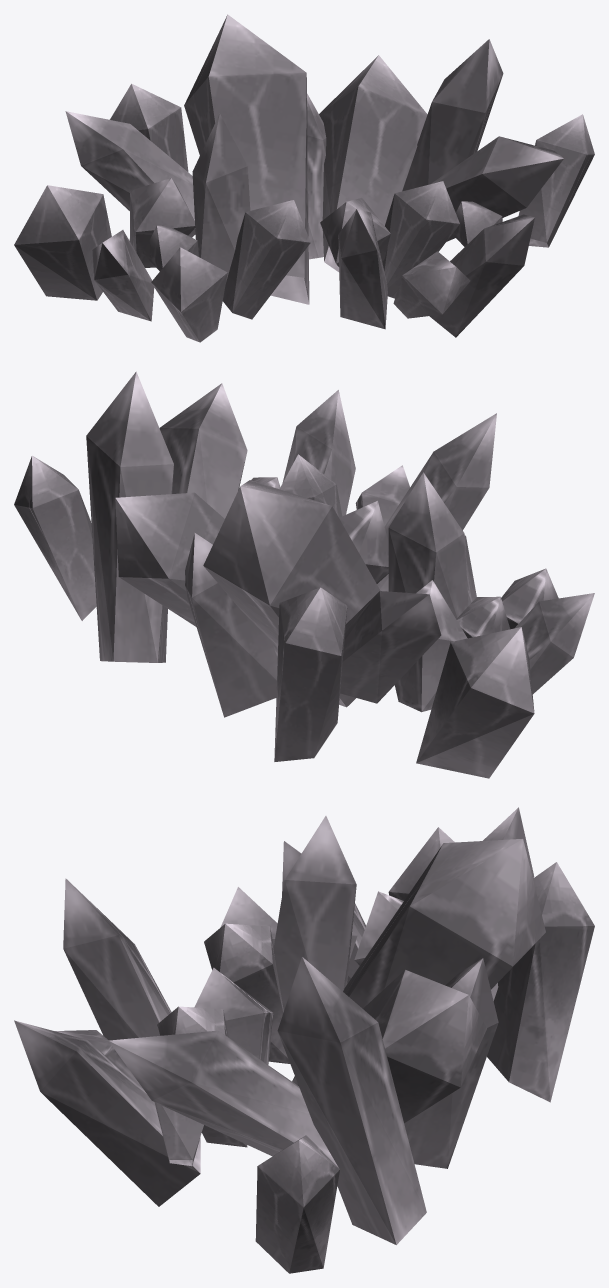
The model's file is crystals.glb.
3 renders of one model, top to bottom at view 1: azimuth 30°, elevation 25°; view 2: azimuth 150°, elevation 25°; view 3: azimuth 270°, elevation 25°, orthographic. The views are drawn at different scales.
Parts seen in each view (by area): view 1: crystals; view 2: crystals; view 3: crystals.
Boxes of the visible parts, bbox=[...] form: crystals: bbox=[14, 14, 594, 342]; crystals: bbox=[14, 371, 594, 778]; crystals: bbox=[14, 807, 594, 1273].
Size of the model in its own units: 2.32 by 1.03 by 1.74.
1 material, 1 textured.
